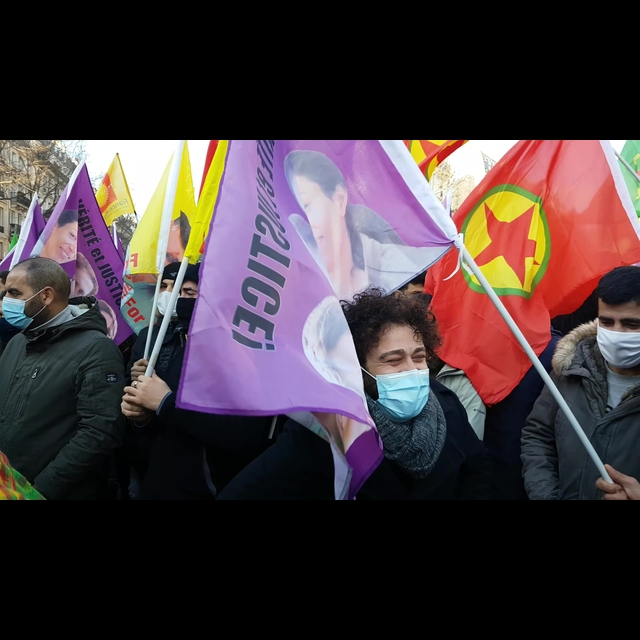PKK: (446, 178, 555, 303)
